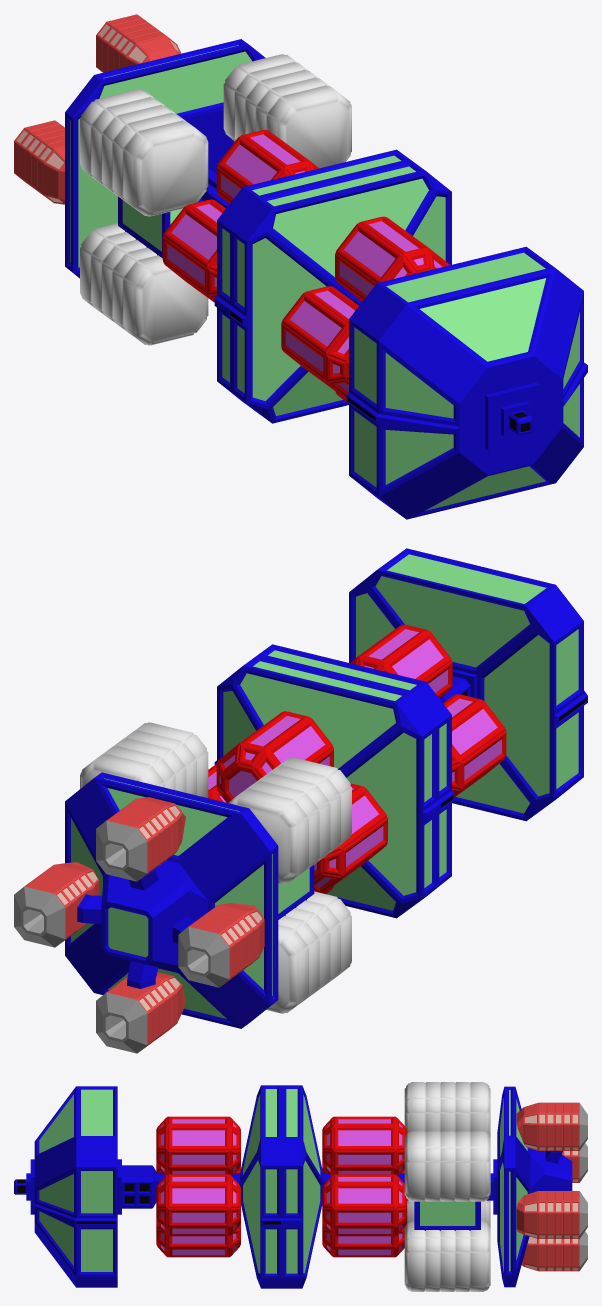
File: Cargo_Ship.fbx
3 renders of one model, top to bottom at view 1: azimuth 30°, elevation 25°; view 2: azimuth 150°, elevation 25°; view 3: azimuth 270°, elevation 25°, orthographic. The views are drawn at different scales.
Parts seen in each view (by area): view 1: Cargo_01, CaspuleQuad, Capsule, Capsule2, Capsule3, Capsule4, Booster_01, Booster_01.001; view 2: Cargo_01, CaspuleQuad, Booster_01.001, Booster_01, Capsule4, Capsule, Capsule3, Capsule2; view 3: Cargo_01, CaspuleQuad, Capsule2, Capsule4, Booster_01.001, Capsule, Capsule3, Booster_01.
Part boxes in pixels (bbox=[...]): Cargo_01: bbox=[65, 39, 587, 519]; CaspuleQuad: bbox=[80, 54, 351, 345]; Capsule: bbox=[281, 286, 358, 398]; Capsule2: bbox=[335, 216, 449, 403]; Capsule3: bbox=[162, 199, 225, 302]; Capsule4: bbox=[216, 130, 319, 203]; Booster_01: bbox=[14, 120, 64, 204]; Booster_01.001: bbox=[96, 14, 181, 72]; Cargo_01: bbox=[65, 548, 587, 1028]; CaspuleQuad: bbox=[80, 722, 351, 1013]; Booster_01.001: bbox=[96, 797, 185, 1053]; Booster_01: bbox=[14, 862, 264, 987]; Capsule4: bbox=[216, 711, 333, 893]; Capsule: bbox=[443, 694, 506, 797]; Capsule3: bbox=[208, 763, 387, 893]; Capsule2: bbox=[350, 624, 452, 698]; Cargo_01: bbox=[14, 1085, 572, 1288]; CaspuleQuad: bbox=[404, 1082, 490, 1291]; Capsule2: bbox=[156, 1116, 240, 1257]; Capsule4: bbox=[322, 1116, 406, 1257]; Booster_01.001: bbox=[516, 1102, 587, 1271]; Capsule: bbox=[156, 1166, 240, 1236]; Capsule3: bbox=[322, 1166, 406, 1236]; Booster_01: bbox=[516, 1143, 587, 1238].
Size of the model in its own units: 42670 by 42158 by 138310.
